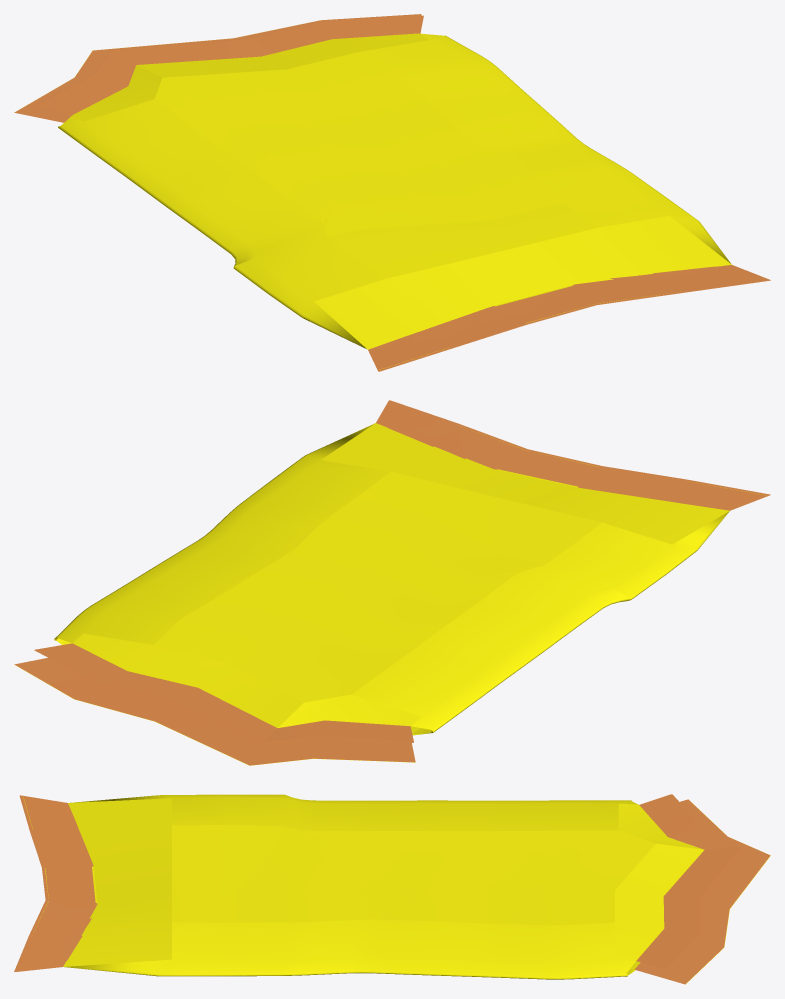
File:  Saco de Salgadinho Prensado LOWPOLY.fbx
3 renders of one model, top to bottom at view 1: azimuth 30°, elevation 25°; view 2: azimuth 150°, elevation 25°; view 3: azimuth 270°, elevation 25°, orthographic. The views are drawn at different scales.
Visible parts, largest first — view 1: Cube.020; view 2: Cube.020; view 3: Cube.020.
Boxes of the visible parts, x1,y1,x2,y2 form: Cube.020: [14, 14, 770, 371]; Cube.020: [14, 400, 770, 765]; Cube.020: [14, 794, 770, 984].
Bounding box in the file's own units: 1.66 × 0.0951 × 2.89.
